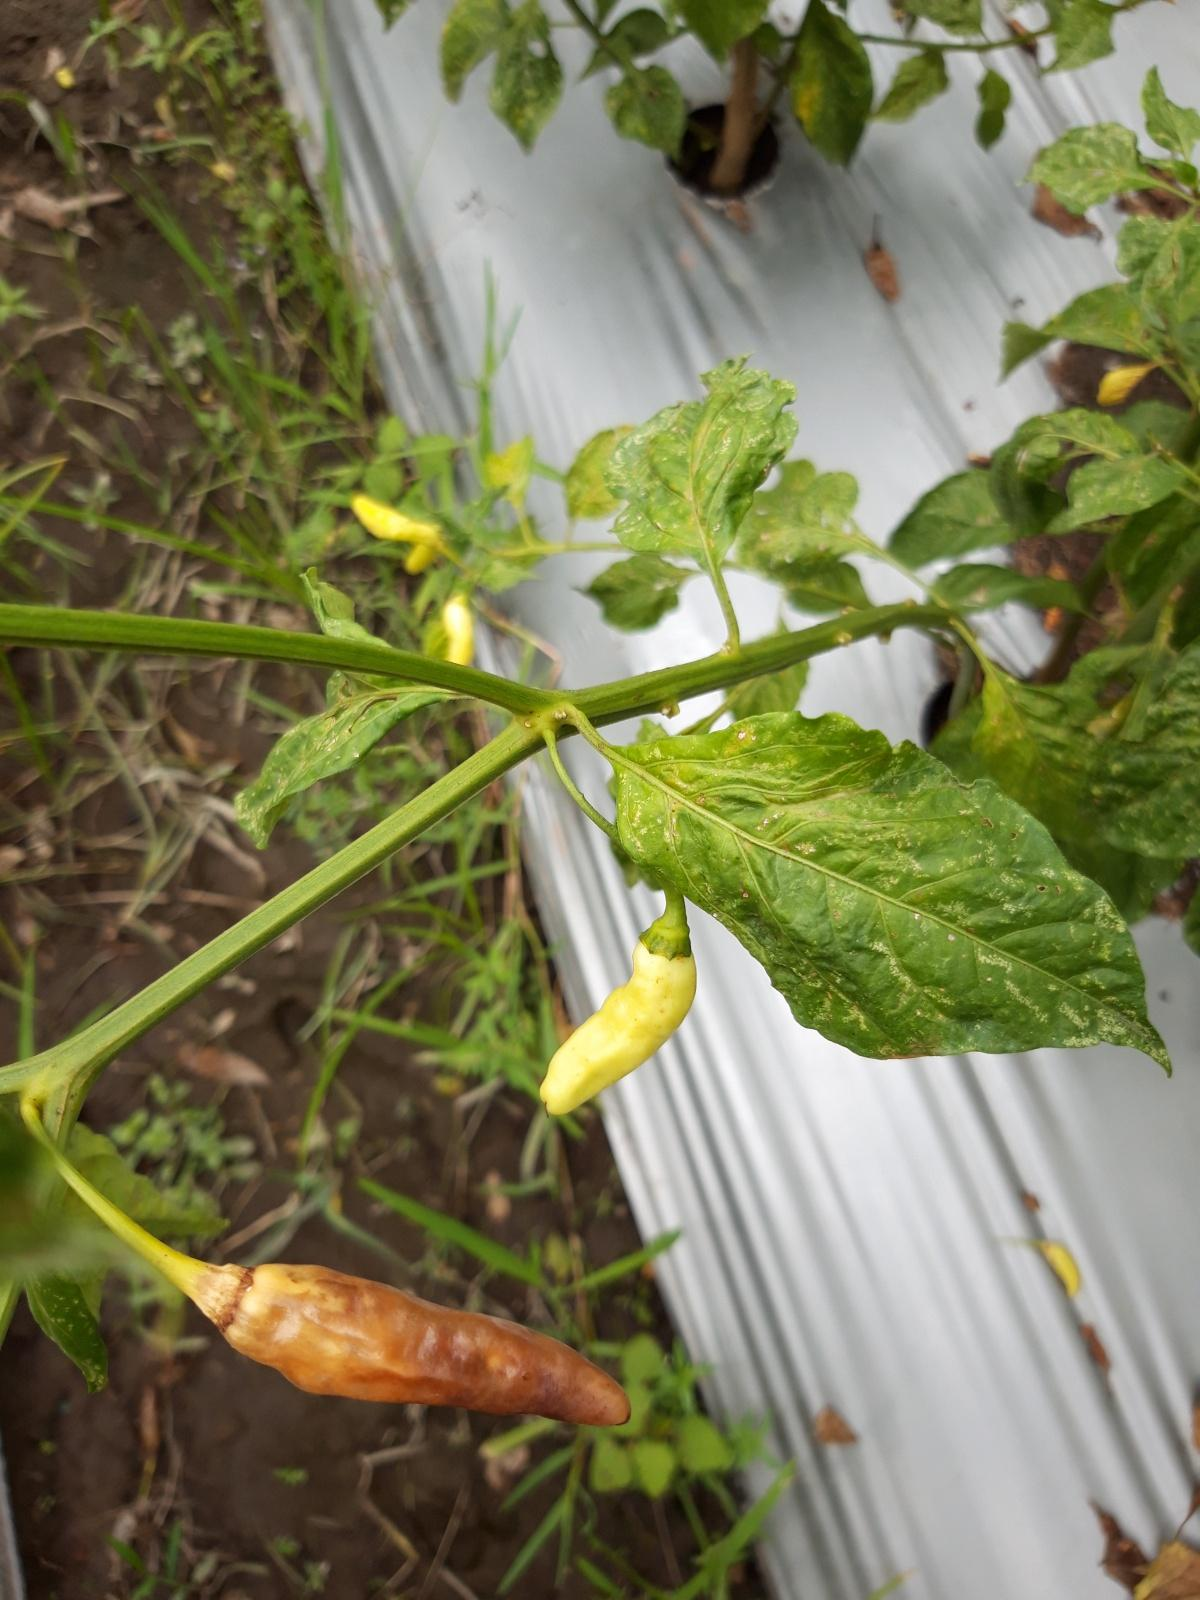cabai_normal: (541, 923, 697, 1117)
lalat_buah: (189, 1260, 633, 1429)
